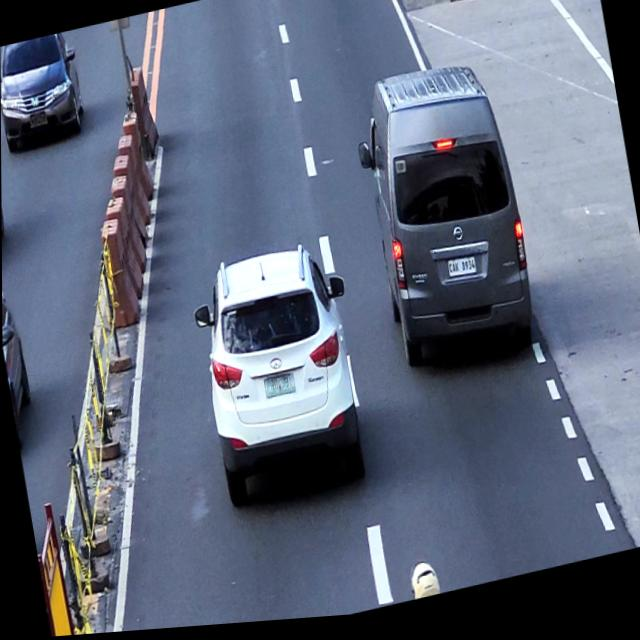Car: (346, 55, 541, 380), (186, 237, 376, 516), (0, 30, 89, 154), (2, 282, 42, 459)
License-Plate: (261, 376, 297, 405), (445, 259, 478, 287), (29, 112, 48, 129)
